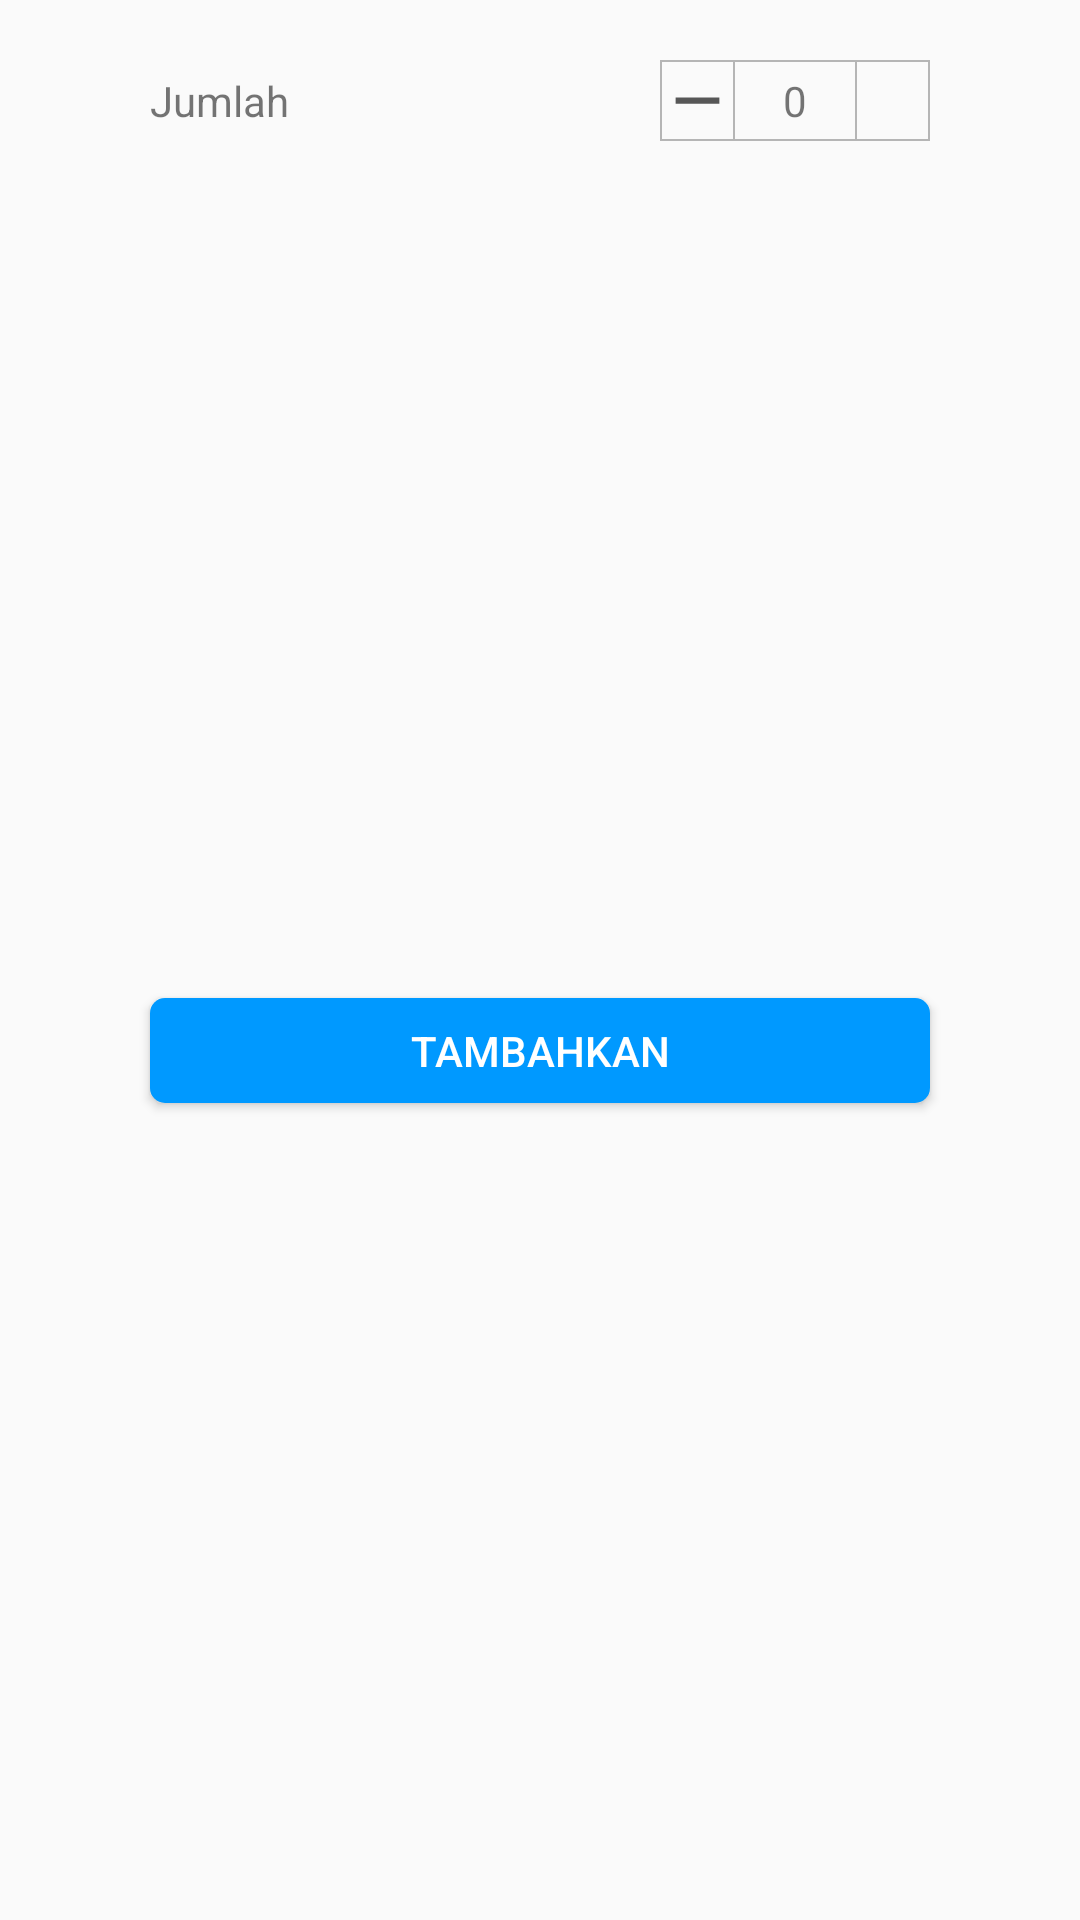

Icon bounding boxes for this 1080 × 1920 phone screenshot, format bbox=[x1, y1, x2, y2]:
minus: bbox=[660, 60, 735, 141]
